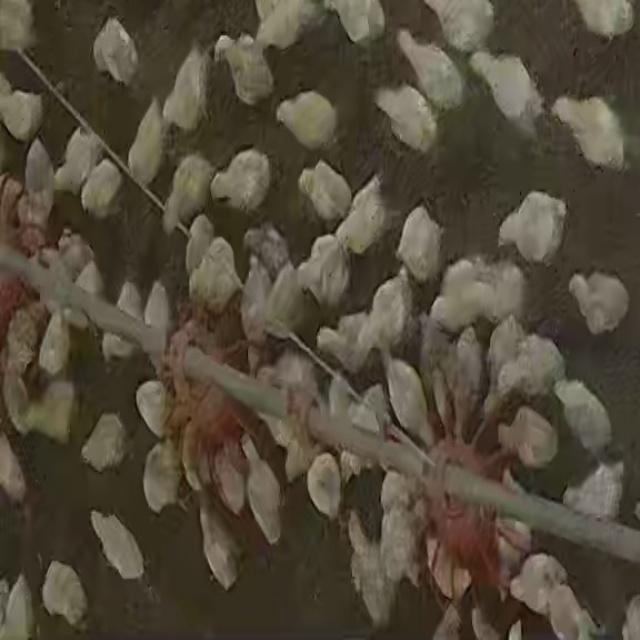chicken: (374, 473, 425, 605), (468, 50, 542, 137), (490, 322, 564, 404), (550, 94, 626, 172), (394, 30, 463, 114), (496, 189, 568, 267), (240, 439, 292, 545), (379, 357, 437, 447), (354, 274, 411, 364), (550, 376, 611, 456), (336, 176, 393, 256), (219, 31, 276, 110), (162, 155, 216, 237), (163, 41, 211, 132), (296, 233, 352, 311), (188, 232, 244, 310), (506, 550, 570, 618), (566, 269, 628, 338), (99, 274, 144, 367), (278, 88, 344, 151), (496, 404, 558, 471), (394, 203, 444, 285), (90, 511, 146, 582), (52, 125, 107, 196), (560, 460, 623, 520), (296, 158, 352, 225), (91, 15, 140, 90), (384, 82, 436, 152), (201, 500, 241, 590), (41, 558, 91, 628), (214, 150, 272, 210), (127, 100, 167, 186), (79, 412, 130, 474), (253, 0, 316, 50), (141, 442, 181, 517), (78, 158, 126, 220), (0, 83, 46, 144), (24, 139, 56, 225), (305, 452, 343, 520), (36, 309, 72, 376), (134, 379, 168, 440)
